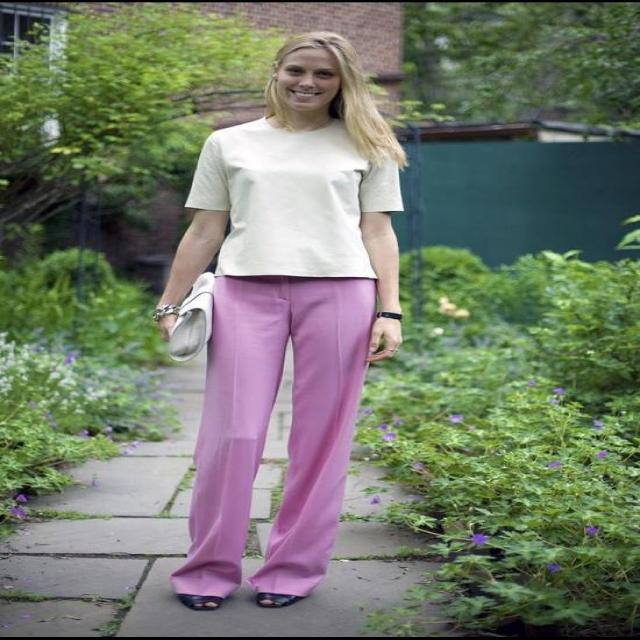Tshirt: (186, 116, 406, 279)
pants: (170, 266, 379, 598)
